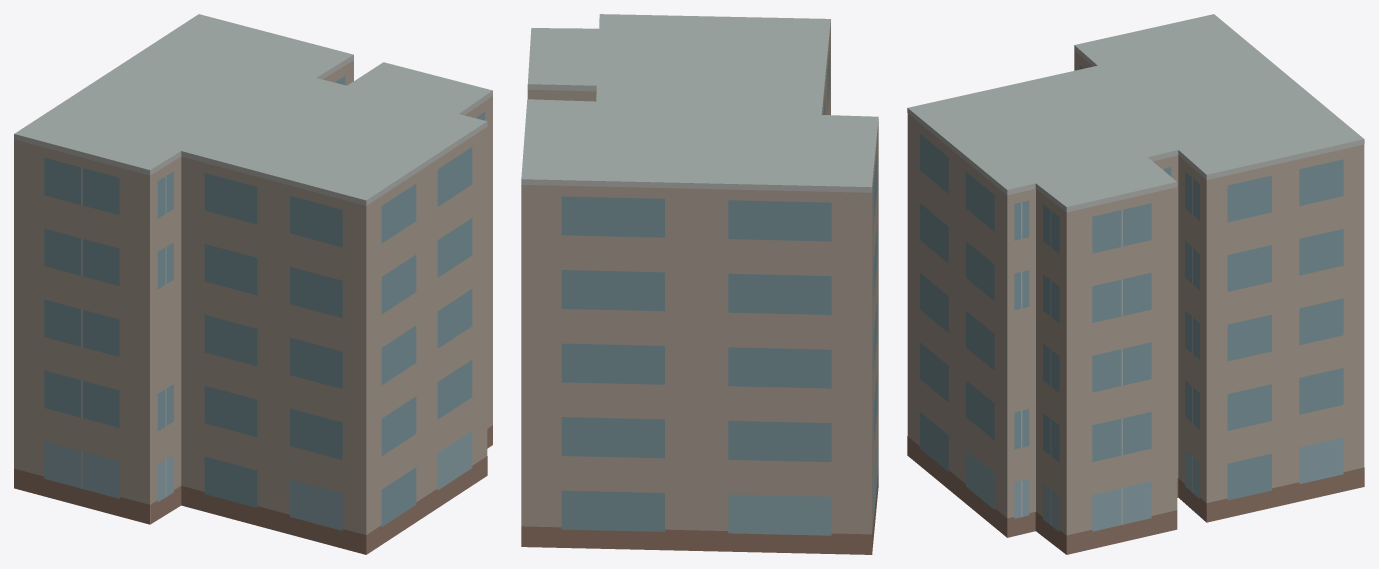
Rendered from survey-upis-32831107.glb.
3 views of the same model, side by side, from view 1: azimuth 30°, elevation 25°; view 2: azimuth 150°, elevation 25°; view 3: azimuth 270°, elevation 25° (orthographic). The views are drawn at different scales.
Visible parts, largest first — view 1: survey-upis-32831107.tmp; view 2: survey-upis-32831107.tmp; view 3: survey-upis-32831107.tmp.
Part boxes in pixels (x1=…): survey-upis-32831107.tmp: x1=14, y1=14, x2=492, y2=554; survey-upis-32831107.tmp: x1=521, y1=14, x2=878, y2=554; survey-upis-32831107.tmp: x1=907, y1=14, x2=1364, y2=554.
Bounding box in the file's own units: 19.08 × 16 × 19.07.
